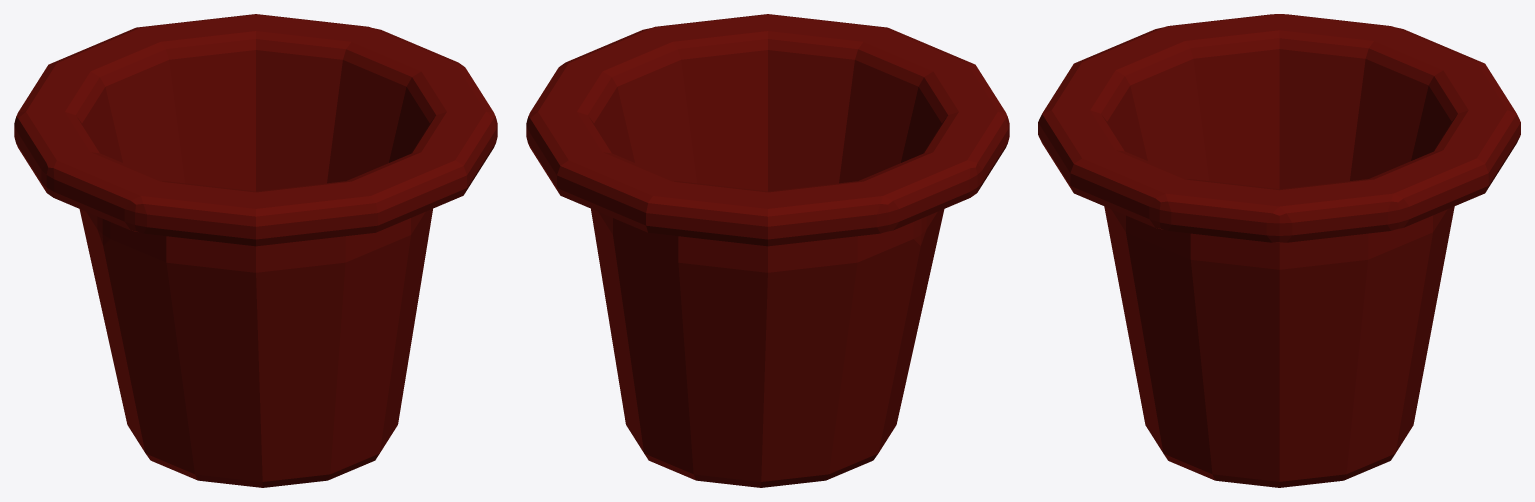
File: Pot2.fbx
The picture shows the model from 3 angles, left to right: view 1: azimuth 30°, elevation 25°; view 2: azimuth 150°, elevation 25°; view 3: azimuth 270°, elevation 25°; orthographic projection.
Parts seen in each view (by area): view 1: Cylinder; view 2: Cylinder; view 3: Cylinder.
Part boxes in pixels (x1,y1,x2,y2): Cylinder: [14, 14, 497, 487]; Cylinder: [526, 14, 1009, 487]; Cylinder: [1038, 14, 1520, 487].
Bounding box in the file's own units: 14.06 × 10.48 × 14.18.
